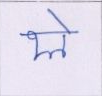o_matra: (57, 16, 70, 58)
